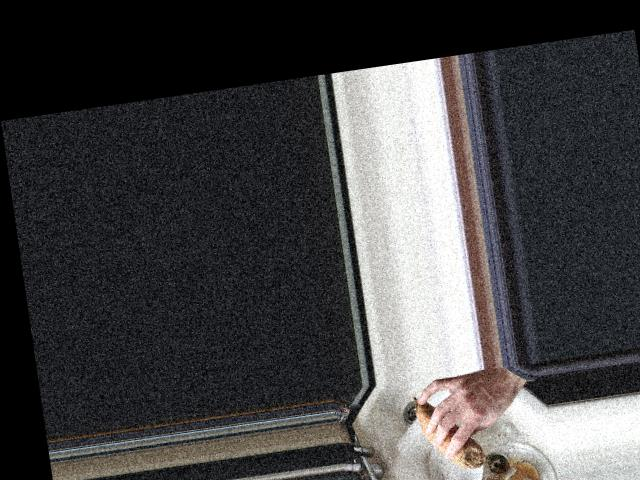sweet_potato: (413, 387, 485, 473)
